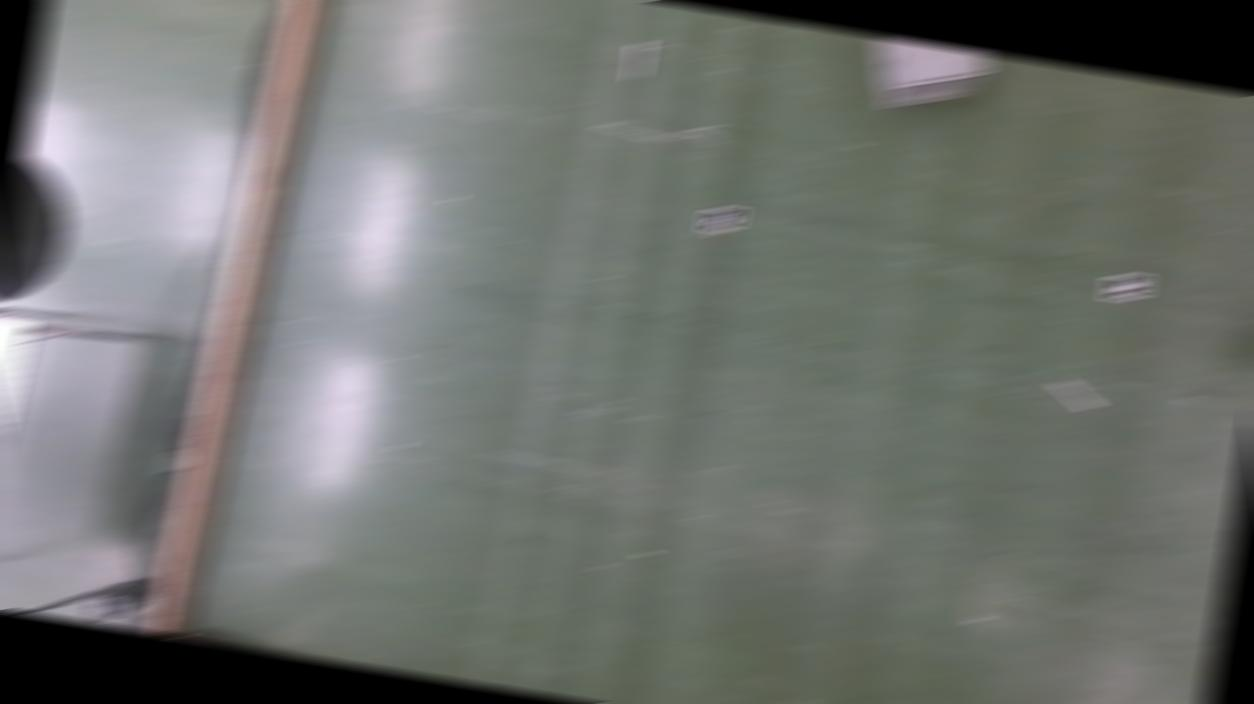probes: (1050, 380, 1100, 411), (626, 42, 652, 80)
rako: (861, 36, 994, 122)
